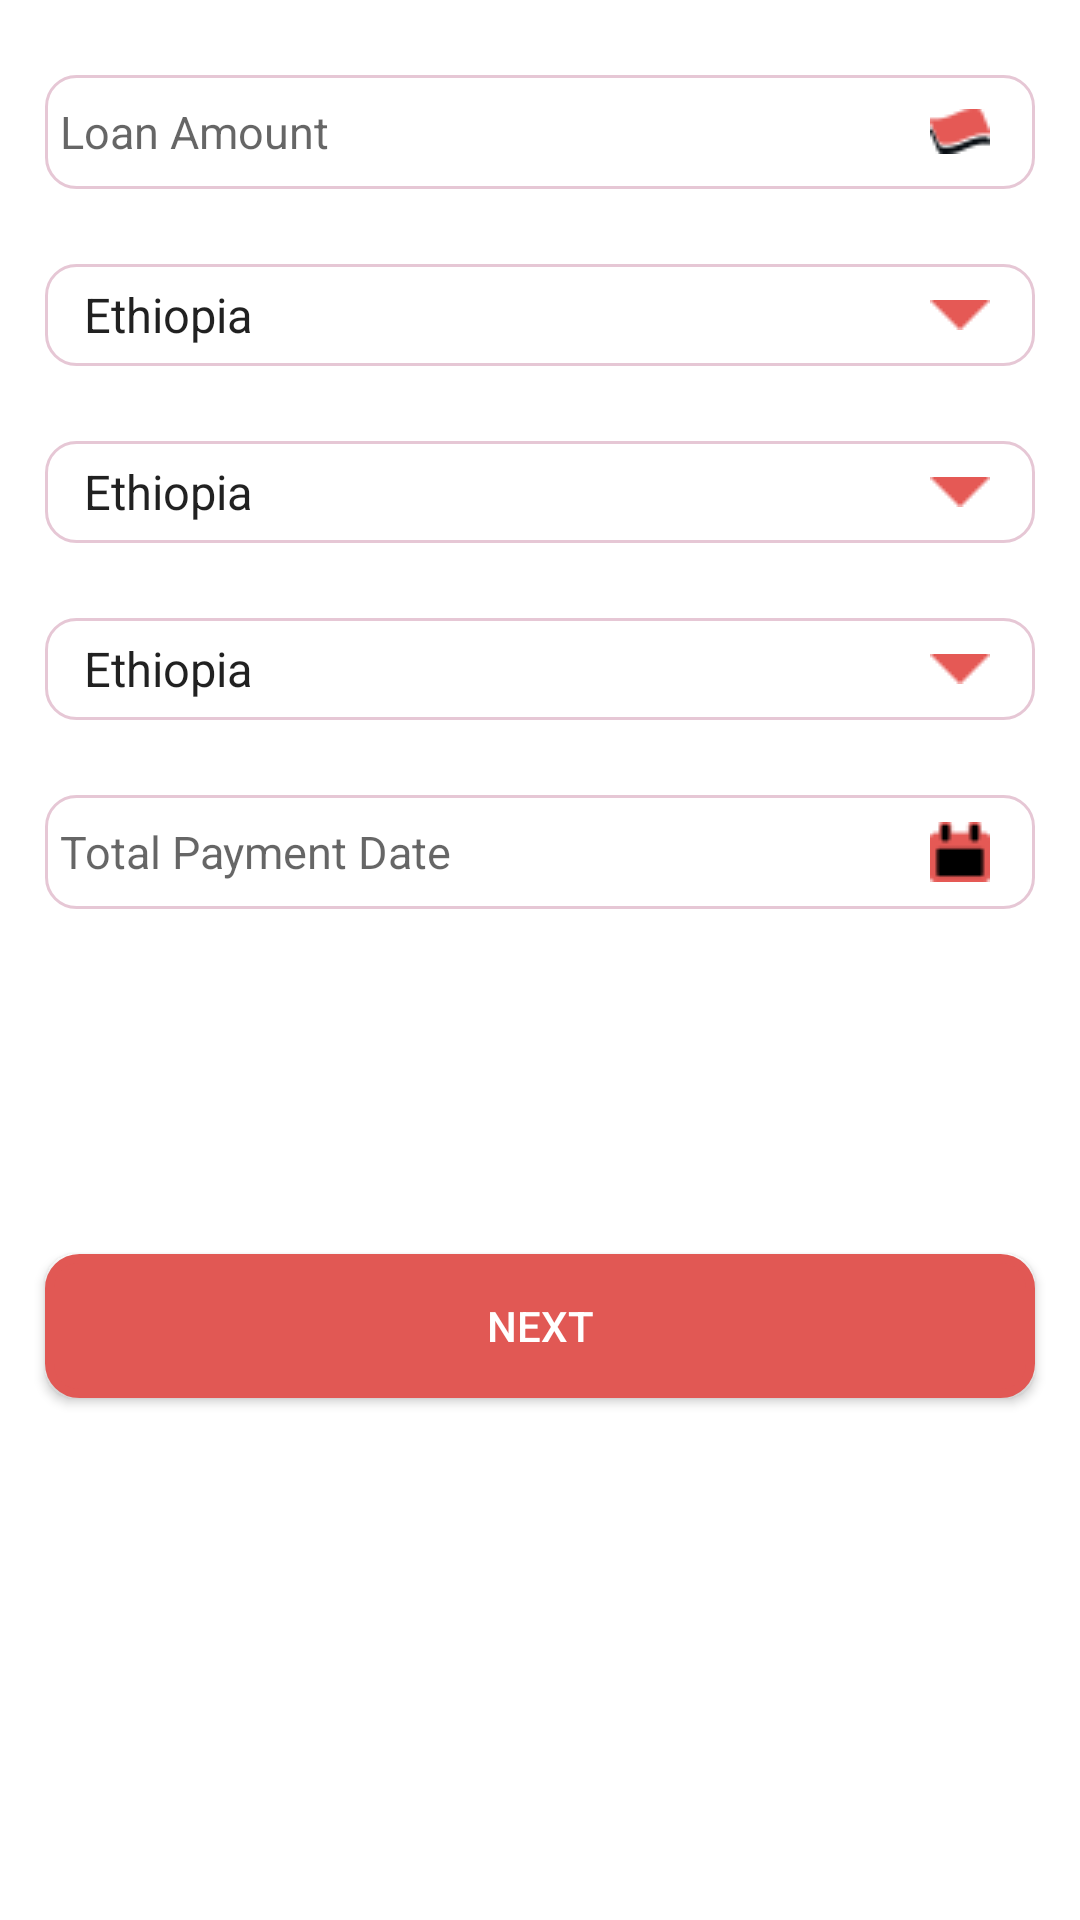

Named icons in this screenshot (1080x1920) and their centers, [x,y]:
drop down: [960,315], [960,492], [960,669]
money note: [960,131]
